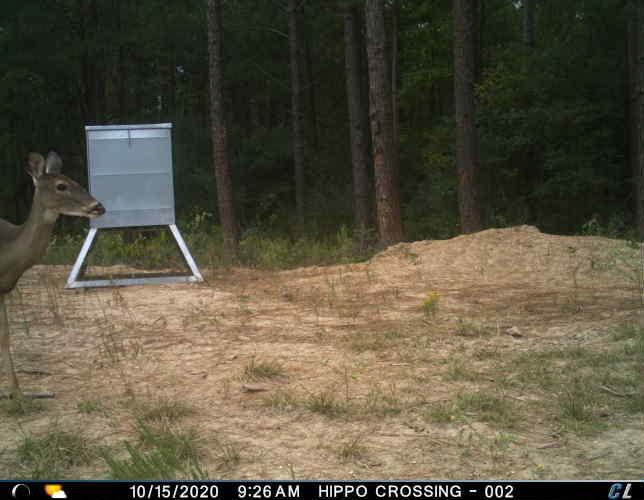Deer: (0, 145, 106, 413)
